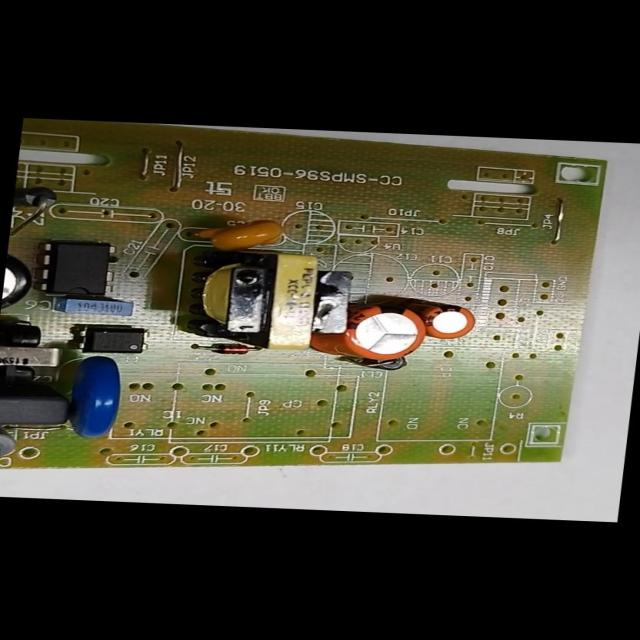Cap1: (341, 306, 428, 359)
Cap2: (422, 306, 476, 338)
MOSFET: (36, 241, 116, 295)
Mov: (75, 357, 124, 439)
Resistor: (0, 425, 15, 465)
Transformer: (180, 252, 356, 352), (0, 322, 65, 392)
